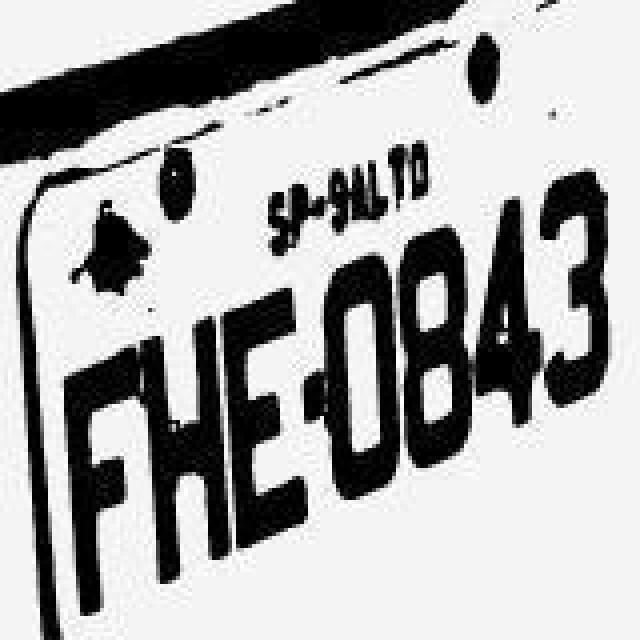3: (538, 166, 614, 410)
4: (466, 194, 542, 430)
8: (398, 228, 482, 468)
E: (220, 286, 308, 546)
F: (62, 344, 146, 616)
H: (140, 310, 228, 578)
O: (318, 256, 402, 496)
